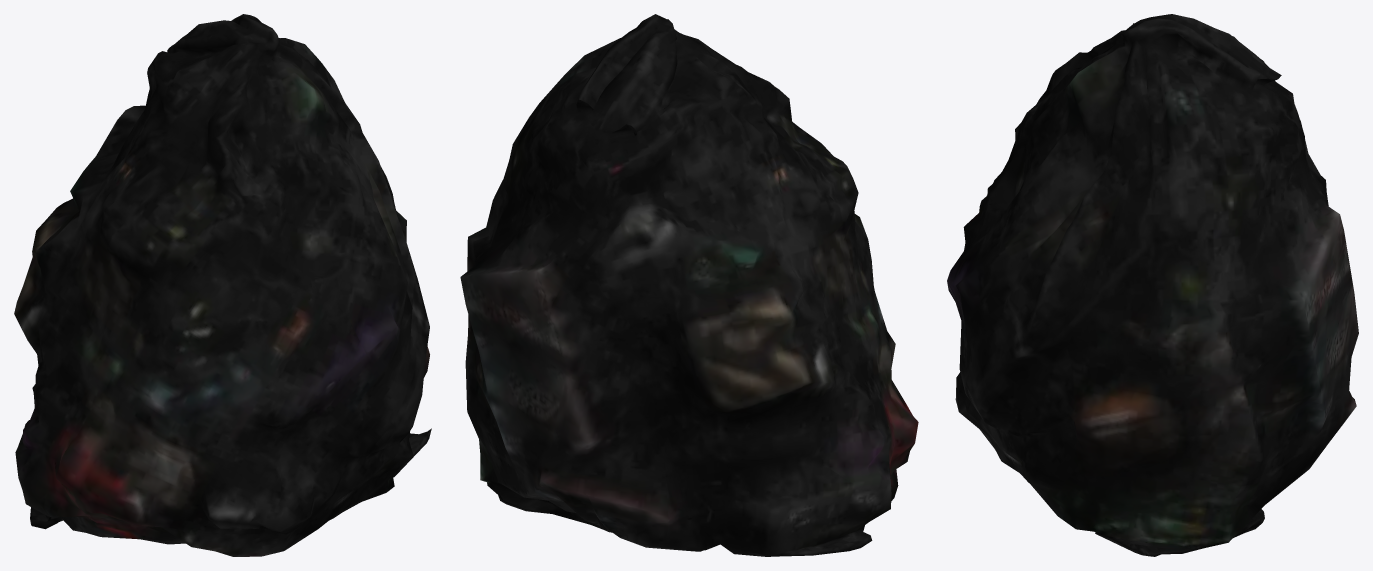
File: trash-high.glb
3 renders of one model, left to right at view 1: azimuth 30°, elevation 25°; view 2: azimuth 150°, elevation 25°; view 3: azimuth 270°, elevation 25°, orthographic. The views are drawn at different scales.
Parts seen in each view (by area): view 1: trashbag; view 2: trashbag; view 3: trashbag.
Boxes of the visible parts, bbox=[...] form: trashbag: bbox=[14, 14, 431, 556]; trashbag: bbox=[460, 14, 918, 556]; trashbag: bbox=[947, 14, 1358, 556].
Size of the model in its own units: 0.5281 by 0.575 by 0.4629.
Materials: 1 (1 with a texture image).
